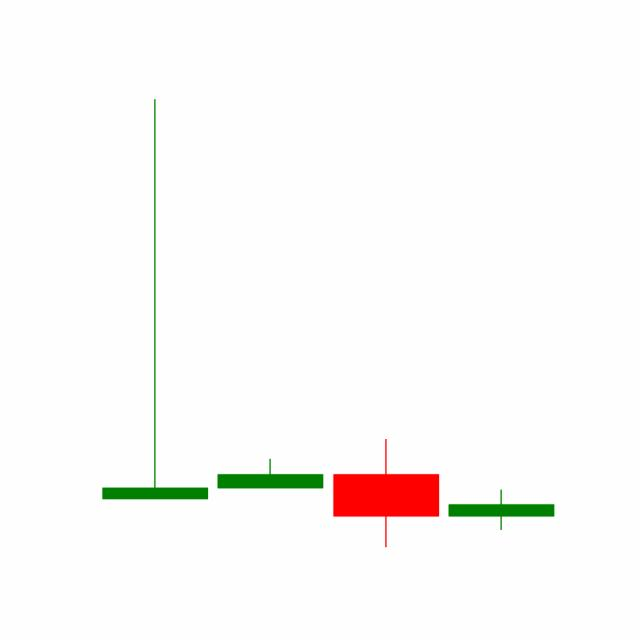Spinning Top: (443, 488, 559, 530)
